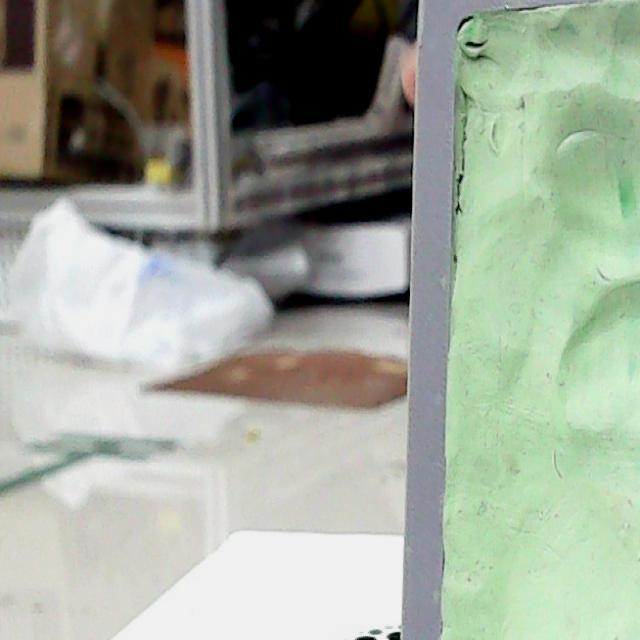block: (393, 0, 638, 630)
